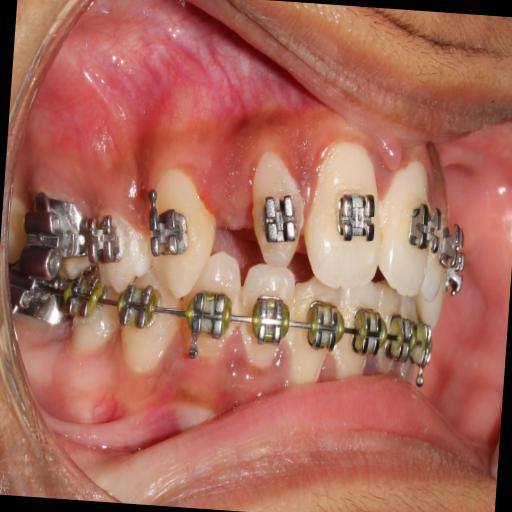correct_brace: (141, 190, 200, 266), (328, 182, 380, 250), (246, 291, 296, 355), (254, 189, 302, 252)
incorrect_brace: (240, 140, 310, 269), (236, 258, 298, 384)
